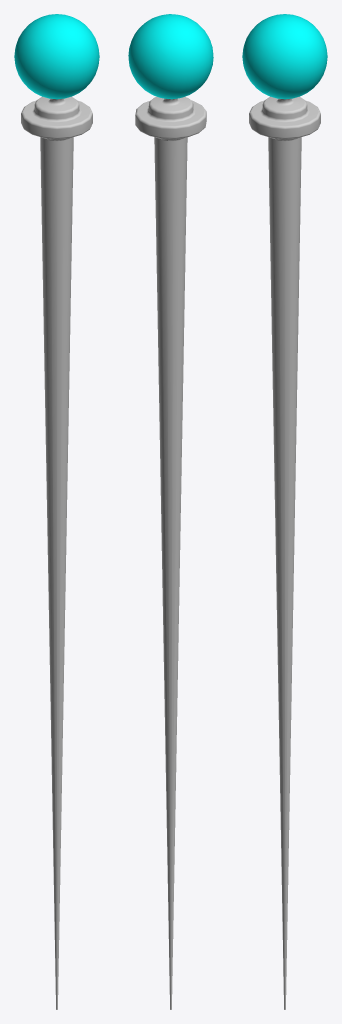
The model's file is cyan.glb.
3 renders of one model, left to right at view 1: azimuth 90°, elevation 25°; view 2: azimuth 210°, elevation 25°; view 3: azimuth 270°, elevation 25°, orthographic.
Parts seen in each view (by area): view 1: Cyan.001; view 2: Cyan.001; view 3: Cyan.001.
Boxes of the visible parts, bbox=[...] form: Cyan.001: bbox=[14, 14, 99, 1009]; Cyan.001: bbox=[128, 14, 213, 1009]; Cyan.001: bbox=[242, 14, 327, 1009].
Bounding box in the file's own units: 0.593 × 7.6 × 0.593.
